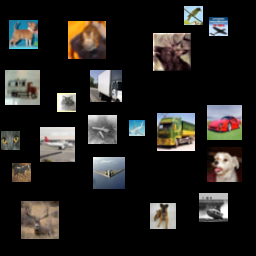airplane: (0, 21, 32, 53), (212, 15, 241, 44), (115, 51, 141, 77), (54, 133, 76, 155), (123, 180, 142, 199)
automobile: (35, 24, 67, 56), (203, 80, 232, 109), (123, 1, 142, 20)
bird: (27, 84, 56, 113)
cat: (86, 160, 112, 186), (212, 56, 234, 78)
deer: (205, 186, 227, 208)
dog: (149, 206, 187, 244), (145, 46, 183, 84), (117, 21, 143, 47)
ship: (0, 158, 26, 184)
